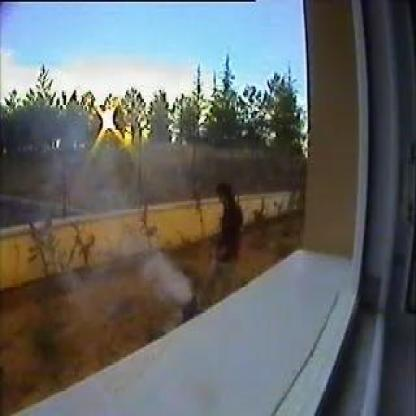-: (139, 250, 193, 302)
